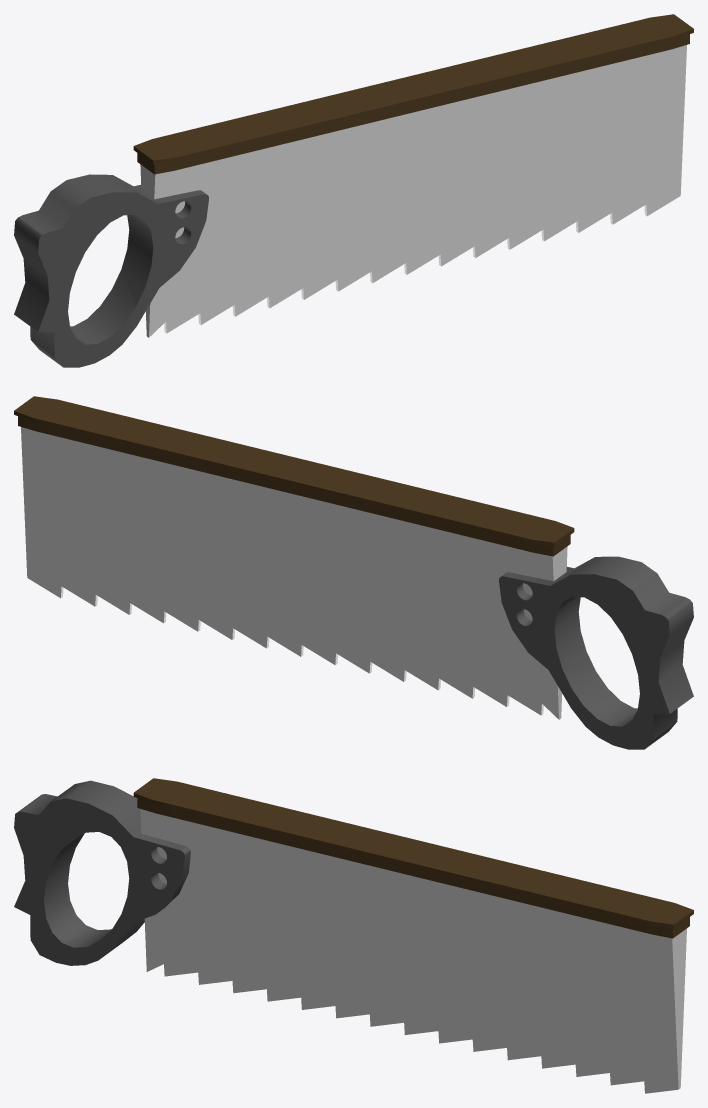
File: saw.fbx
3 views of the same model, one above another, from view 1: azimuth 30°, elevation 25°; view 2: azimuth 150°, elevation 25°; view 3: azimuth 330°, elevation 25° (orthographic).
Visible parts, largest first — view 1: saw_mesh; view 2: saw_mesh; view 3: saw_mesh.
Part boxes in pixels (<box>): saw_mesh: <box>14,14,693,367</box>; saw_mesh: <box>14,396,693,749</box>; saw_mesh: <box>14,778,693,1093</box>.
Size of the model in its own units: 8.31 by 2.25 by 0.5465.
